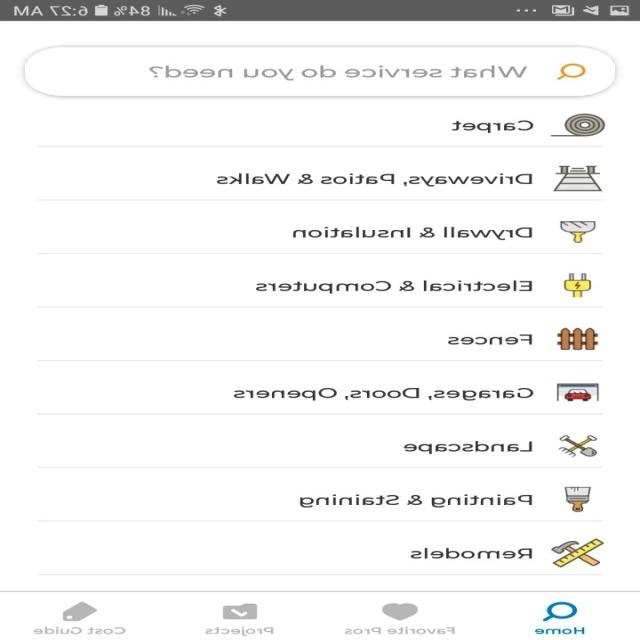EditText: (25, 46, 616, 96)
Icon: (542, 601, 578, 621), (382, 602, 419, 621), (64, 602, 98, 621), (223, 602, 258, 620), (556, 62, 586, 80)
Image: (550, 538, 604, 568), (552, 166, 604, 192), (550, 113, 606, 137), (557, 328, 599, 350), (558, 434, 598, 457), (557, 383, 600, 402), (560, 221, 596, 243), (564, 486, 592, 512), (564, 273, 592, 297)
Text: (150, 65, 528, 81), (216, 173, 534, 186), (255, 280, 532, 294), (234, 388, 534, 400), (294, 226, 532, 240), (300, 494, 532, 508), (404, 441, 534, 454), (410, 548, 532, 558), (452, 120, 534, 133), (345, 626, 455, 634), (448, 334, 534, 344), (34, 626, 126, 634), (205, 626, 274, 636), (535, 626, 585, 634)
